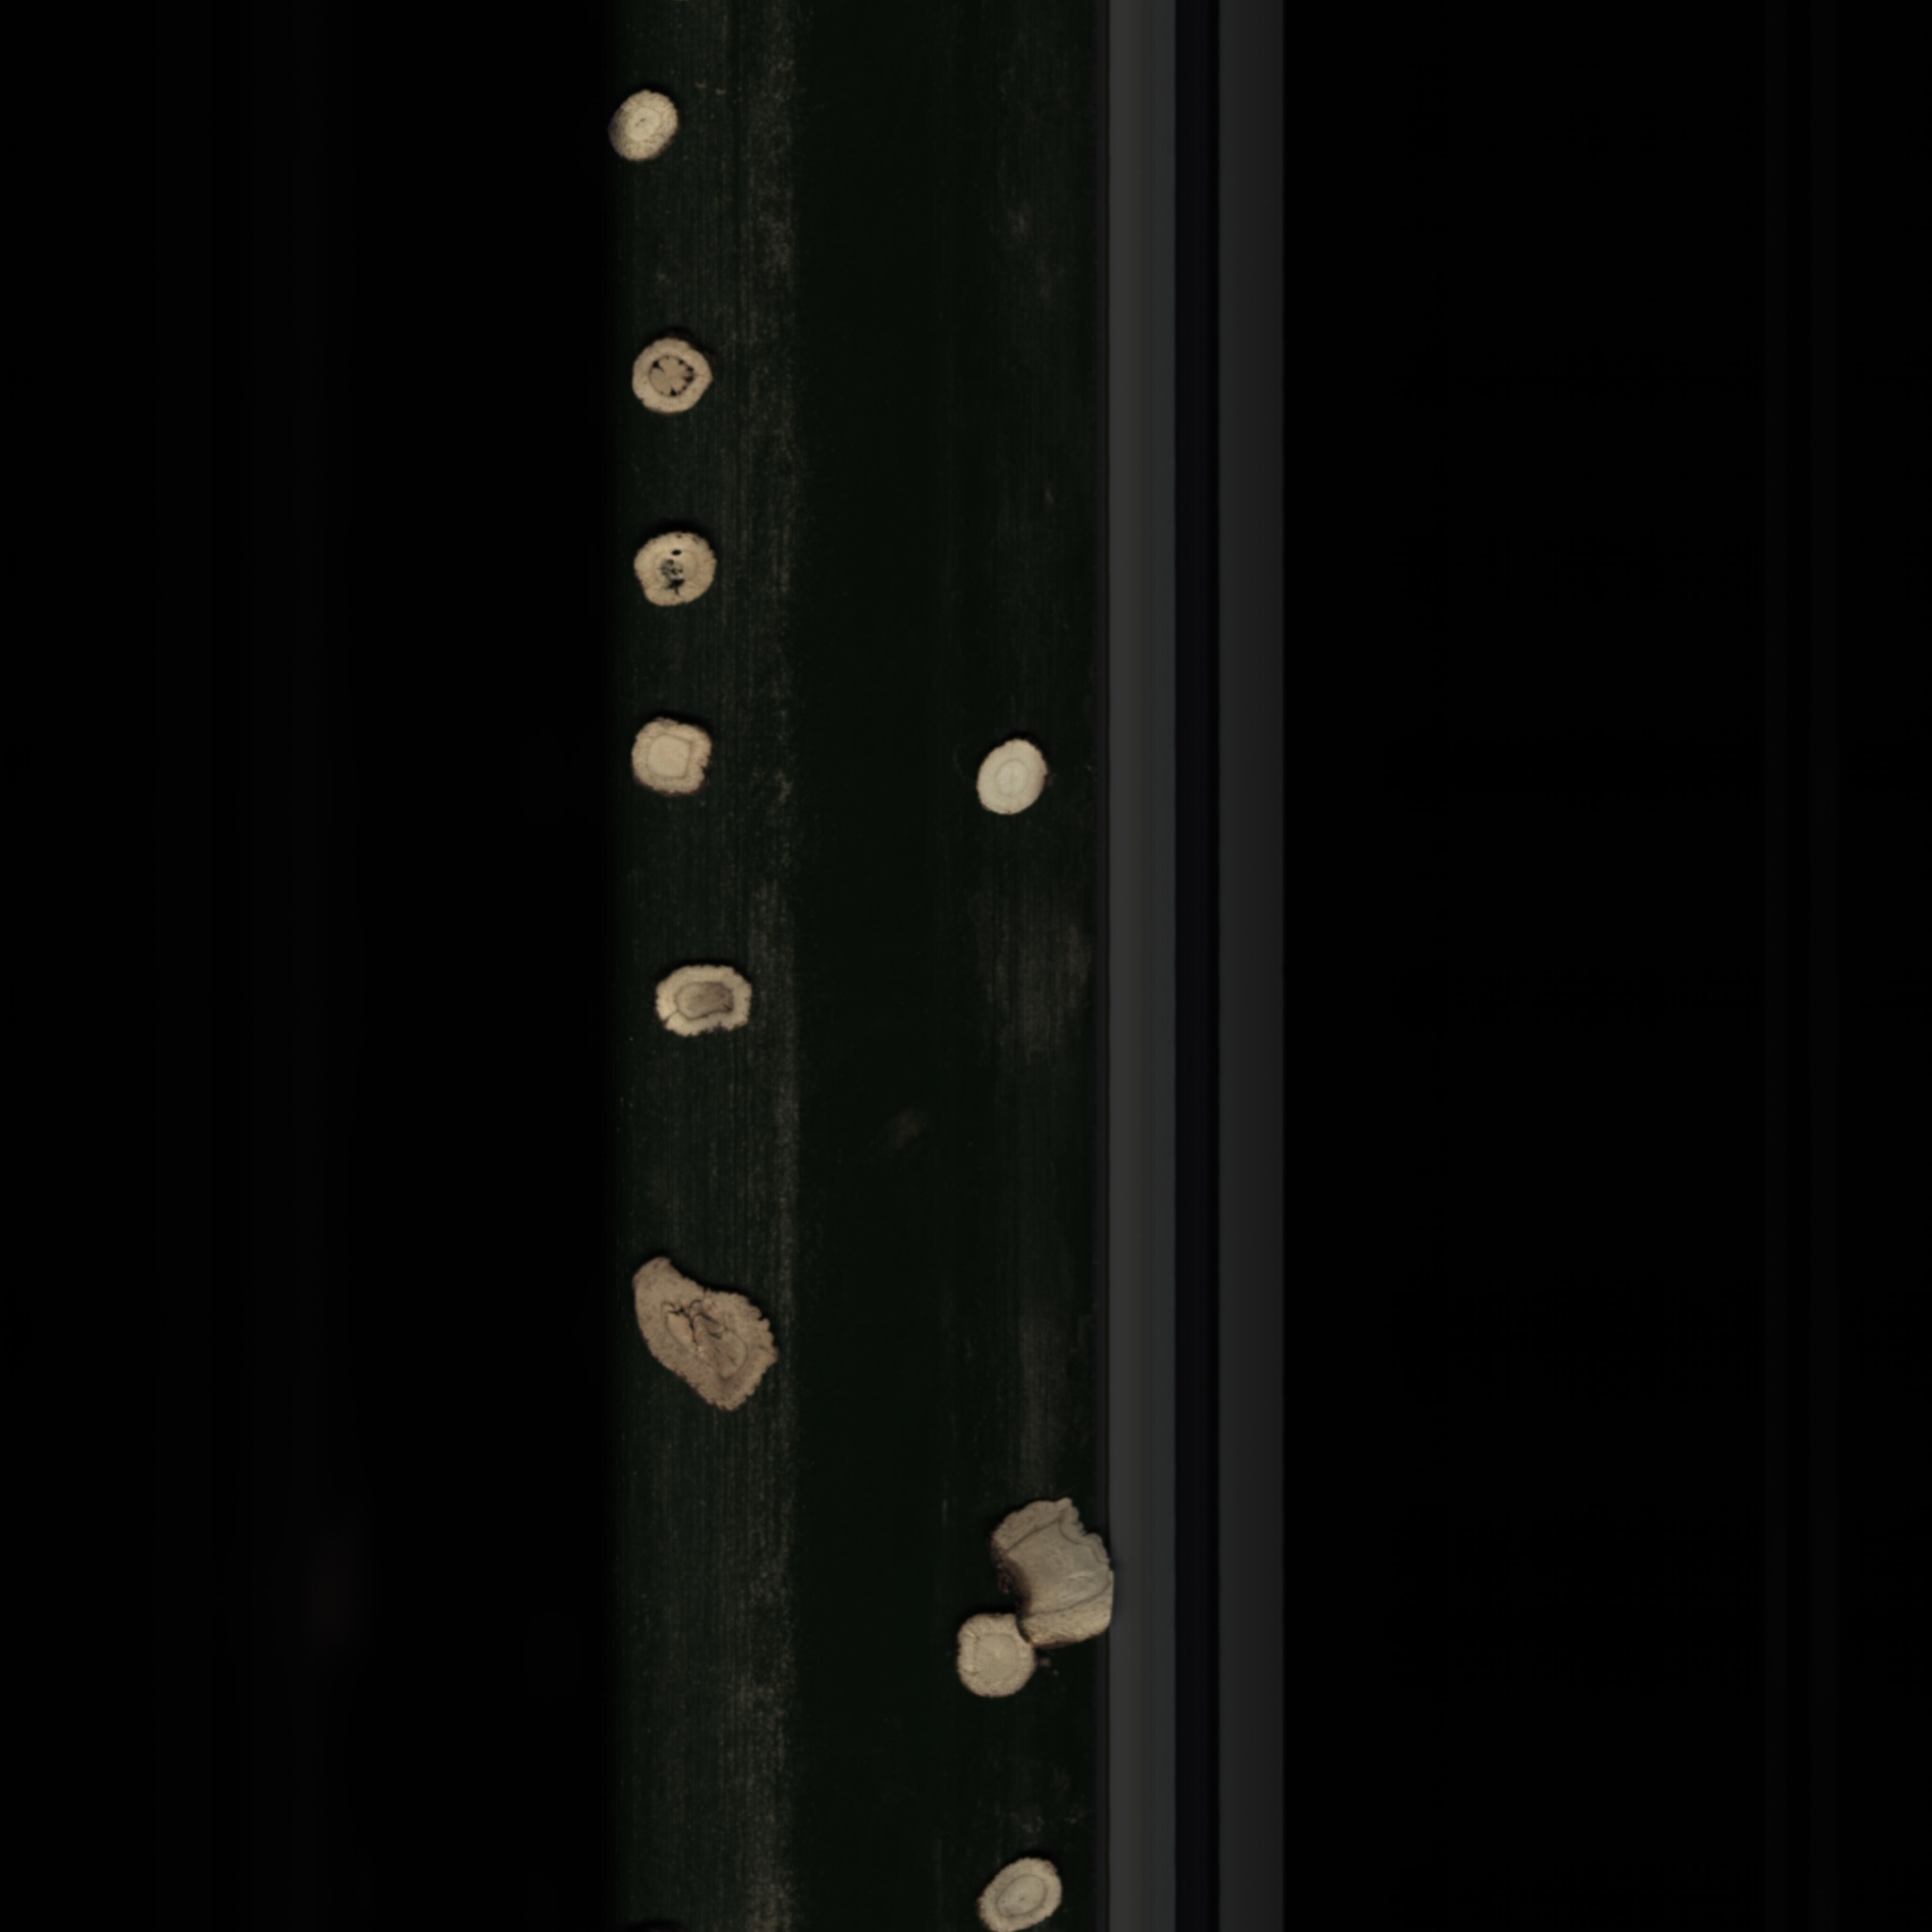hole: (623, 333, 724, 421), (628, 525, 722, 616)
moldy: (616, 1251, 784, 1415), (651, 964, 764, 1040)
